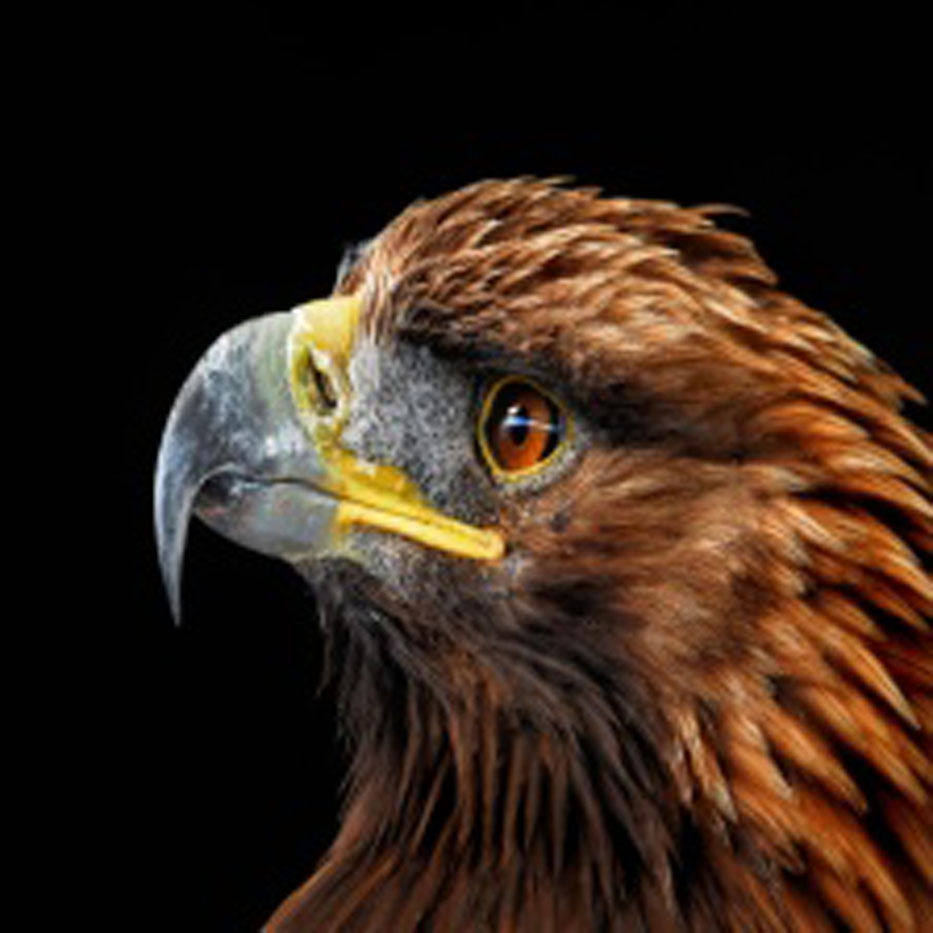Pengoyak Daging: (136, 281, 324, 644)
